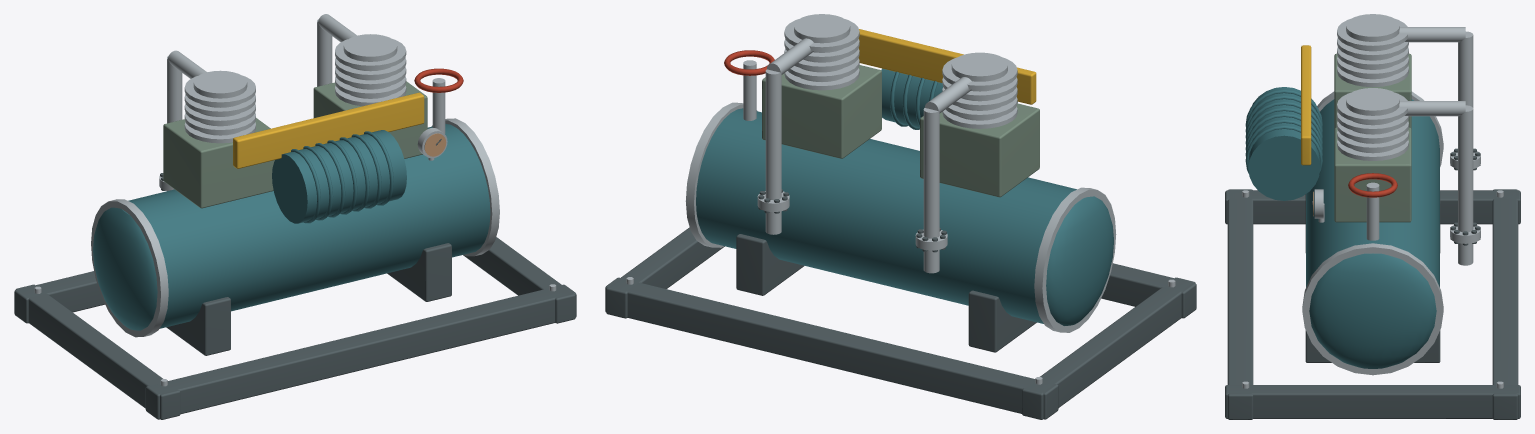
File: compressor.glb
The picture shows the model from 3 angles, left to right: view 1: azimuth 30°, elevation 25°; view 2: azimuth 150°, elevation 25°; view 3: azimuth 270°, elevation 25°; orthographic projection. The views are drawn at different scales.
Visible parts, largest first — view 1: compressor_SPOT_petrol_enamel, compressor_SPOT_cast_iron, compressor_SPOT_machined_steel, compressor_SPOT_sage_enamel, compressor_SPOT_safety_yellow, compressor_SPOT_valve_red; view 2: compressor_SPOT_petrol_enamel, compressor_SPOT_cast_iron, compressor_SPOT_machined_steel, compressor_SPOT_sage_enamel, compressor_SPOT_safety_yellow, compressor_SPOT_valve_red; view 3: compressor_SPOT_petrol_enamel, compressor_SPOT_cast_iron, compressor_SPOT_machined_steel, compressor_SPOT_sage_enamel, compressor_SPOT_safety_yellow, compressor_SPOT_valve_red.
Boxes of the visible parts, x1,y1,x2,y2 form: compressor_SPOT_petrol_enamel: [93, 123, 490, 330]; compressor_SPOT_cast_iron: [14, 139, 576, 419]; compressor_SPOT_machined_steel: [34, 14, 556, 386]; compressor_SPOT_sage_enamel: [163, 81, 427, 208]; compressor_SPOT_safety_yellow: [233, 92, 424, 168]; compressor_SPOT_valve_red: [414, 68, 463, 92]; compressor_SPOT_petrol_enamel: [696, 68, 1113, 325]; compressor_SPOT_cast_iron: [605, 189, 1196, 419]; compressor_SPOT_machined_steel: [626, 14, 1175, 384]; compressor_SPOT_sage_enamel: [762, 65, 1039, 197]; compressor_SPOT_safety_yellow: [858, 29, 1036, 104]; compressor_SPOT_valve_red: [724, 50, 774, 75]; compressor_SPOT_petrol_enamel: [1245, 87, 1439, 368]; compressor_SPOT_cast_iron: [1225, 148, 1520, 419]; compressor_SPOT_machined_steel: [1242, 14, 1503, 388]; compressor_SPOT_sage_enamel: [1334, 53, 1411, 222]; compressor_SPOT_safety_yellow: [1301, 45, 1311, 165]; compressor_SPOT_valve_red: [1348, 173, 1397, 197].
Size of the model in its own units: 3.8 by 2.19 by 2.3.
